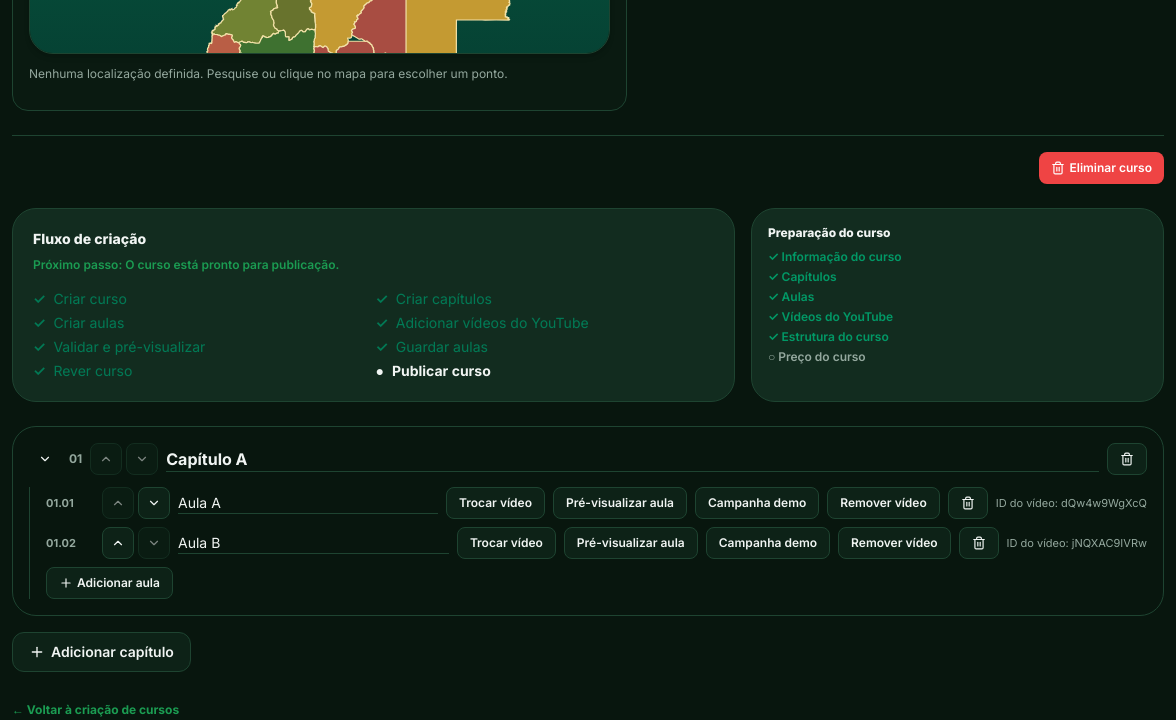
Scenario: CourseEditor guided YouTube authoring › does not treat a failed reorder as success
(page scrolled)
Click the button named "Mover aula para baixo" next to "01.01": {"x": 154, "y": 503} x1=138 y1=487 x2=170 y2=519
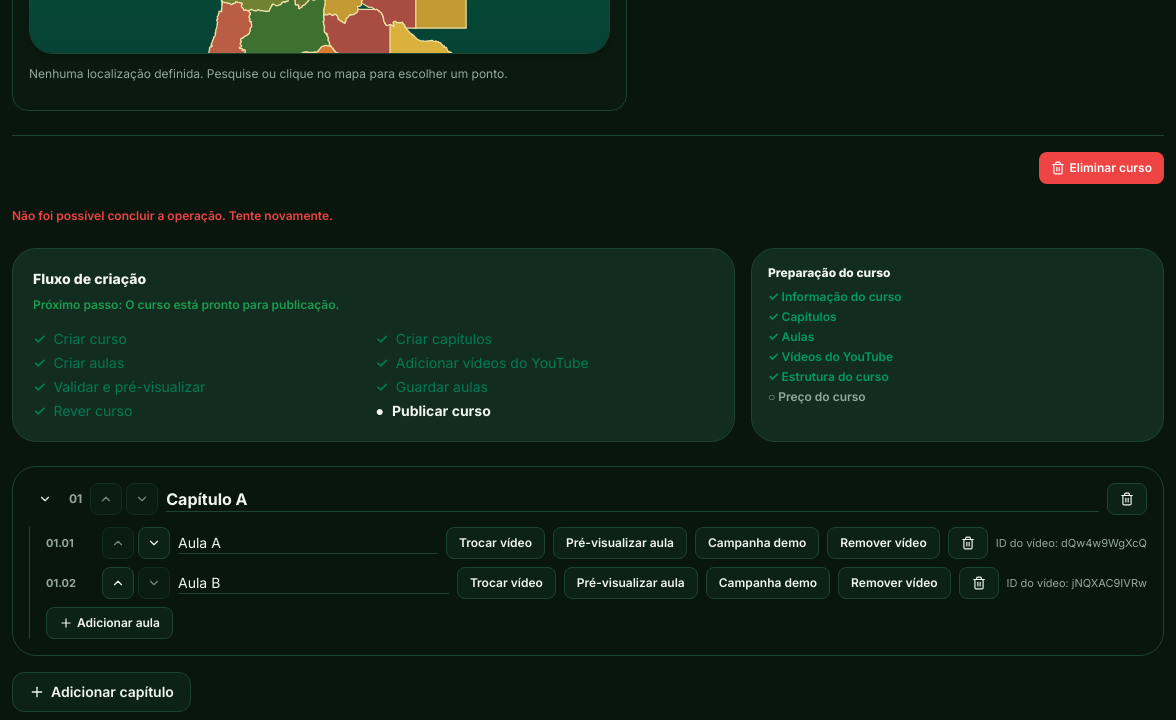
Check: the text "Não foi possível concluir a operação. Tente novamente." is shown, box x1=12 y1=208 x2=333 y2=223
